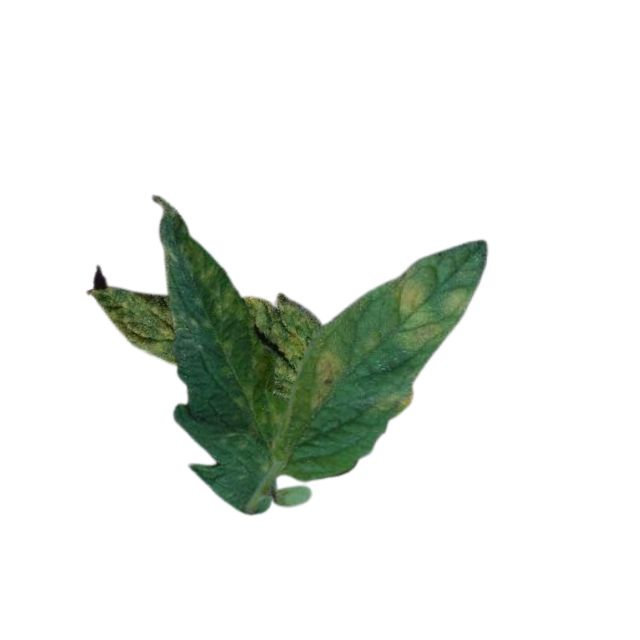Leaf_Mold: (387, 268, 474, 353), (246, 297, 317, 392), (91, 287, 173, 362), (195, 261, 243, 321), (311, 345, 334, 409), (369, 386, 412, 414)
